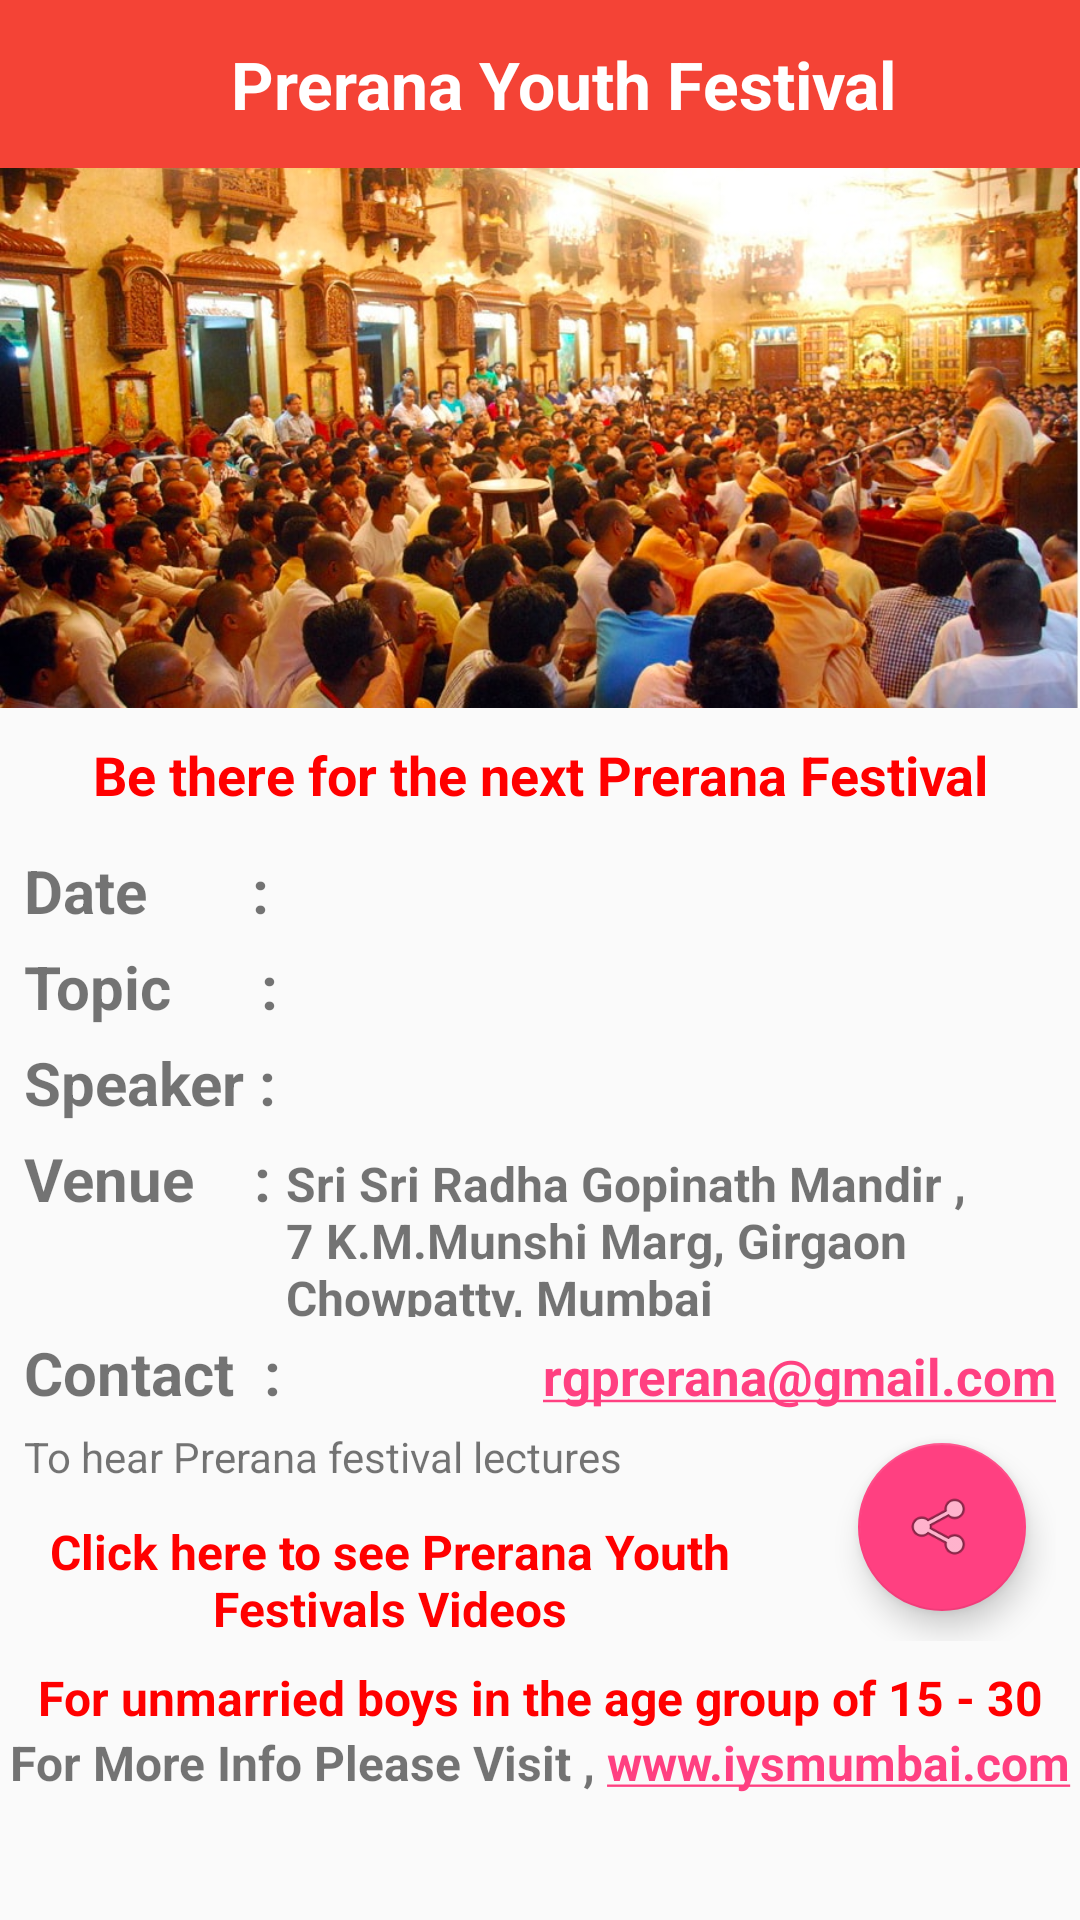

Locate icon controls on the screen. Image size 1080px×1920px, boxes as (x1, y1, x2, y2).
share: (858, 1443, 1026, 1611)
